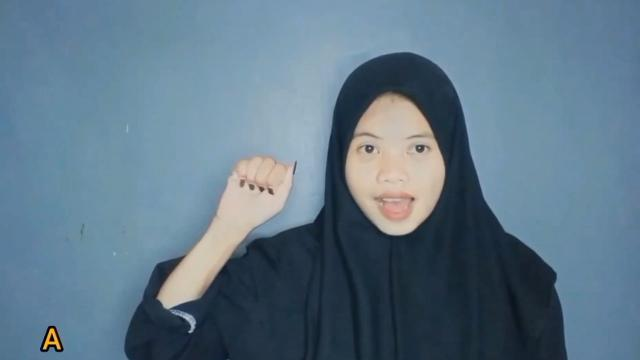A: (218, 154, 298, 228)
